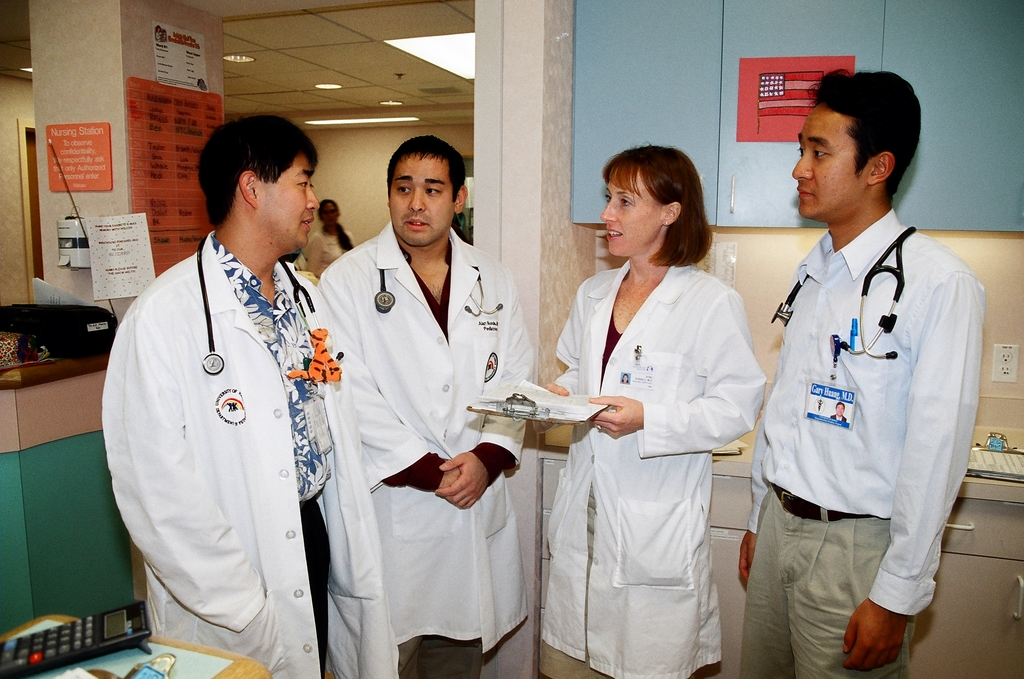Person: (102, 66, 985, 678)
